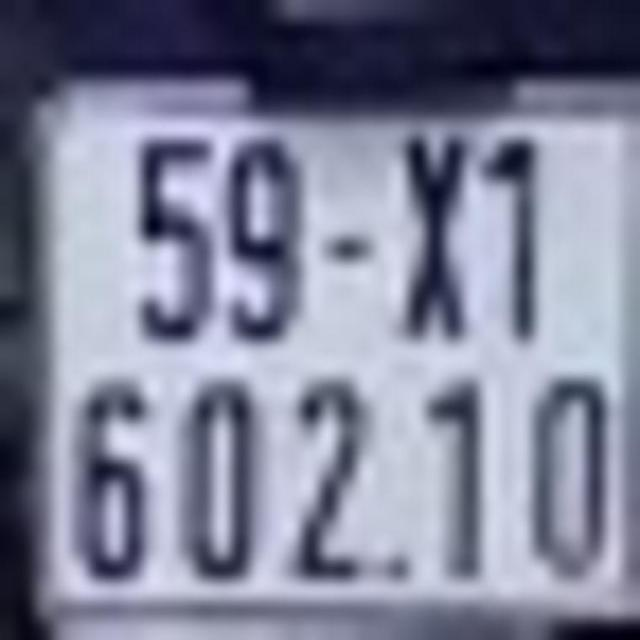0: (524, 370, 608, 580), (184, 380, 258, 580)
1: (426, 371, 489, 576), (485, 128, 542, 337)
2: (293, 363, 365, 576)
5: (138, 134, 216, 340)
6: (74, 376, 148, 585)
9: (224, 132, 306, 346)
X: (392, 132, 476, 340)
